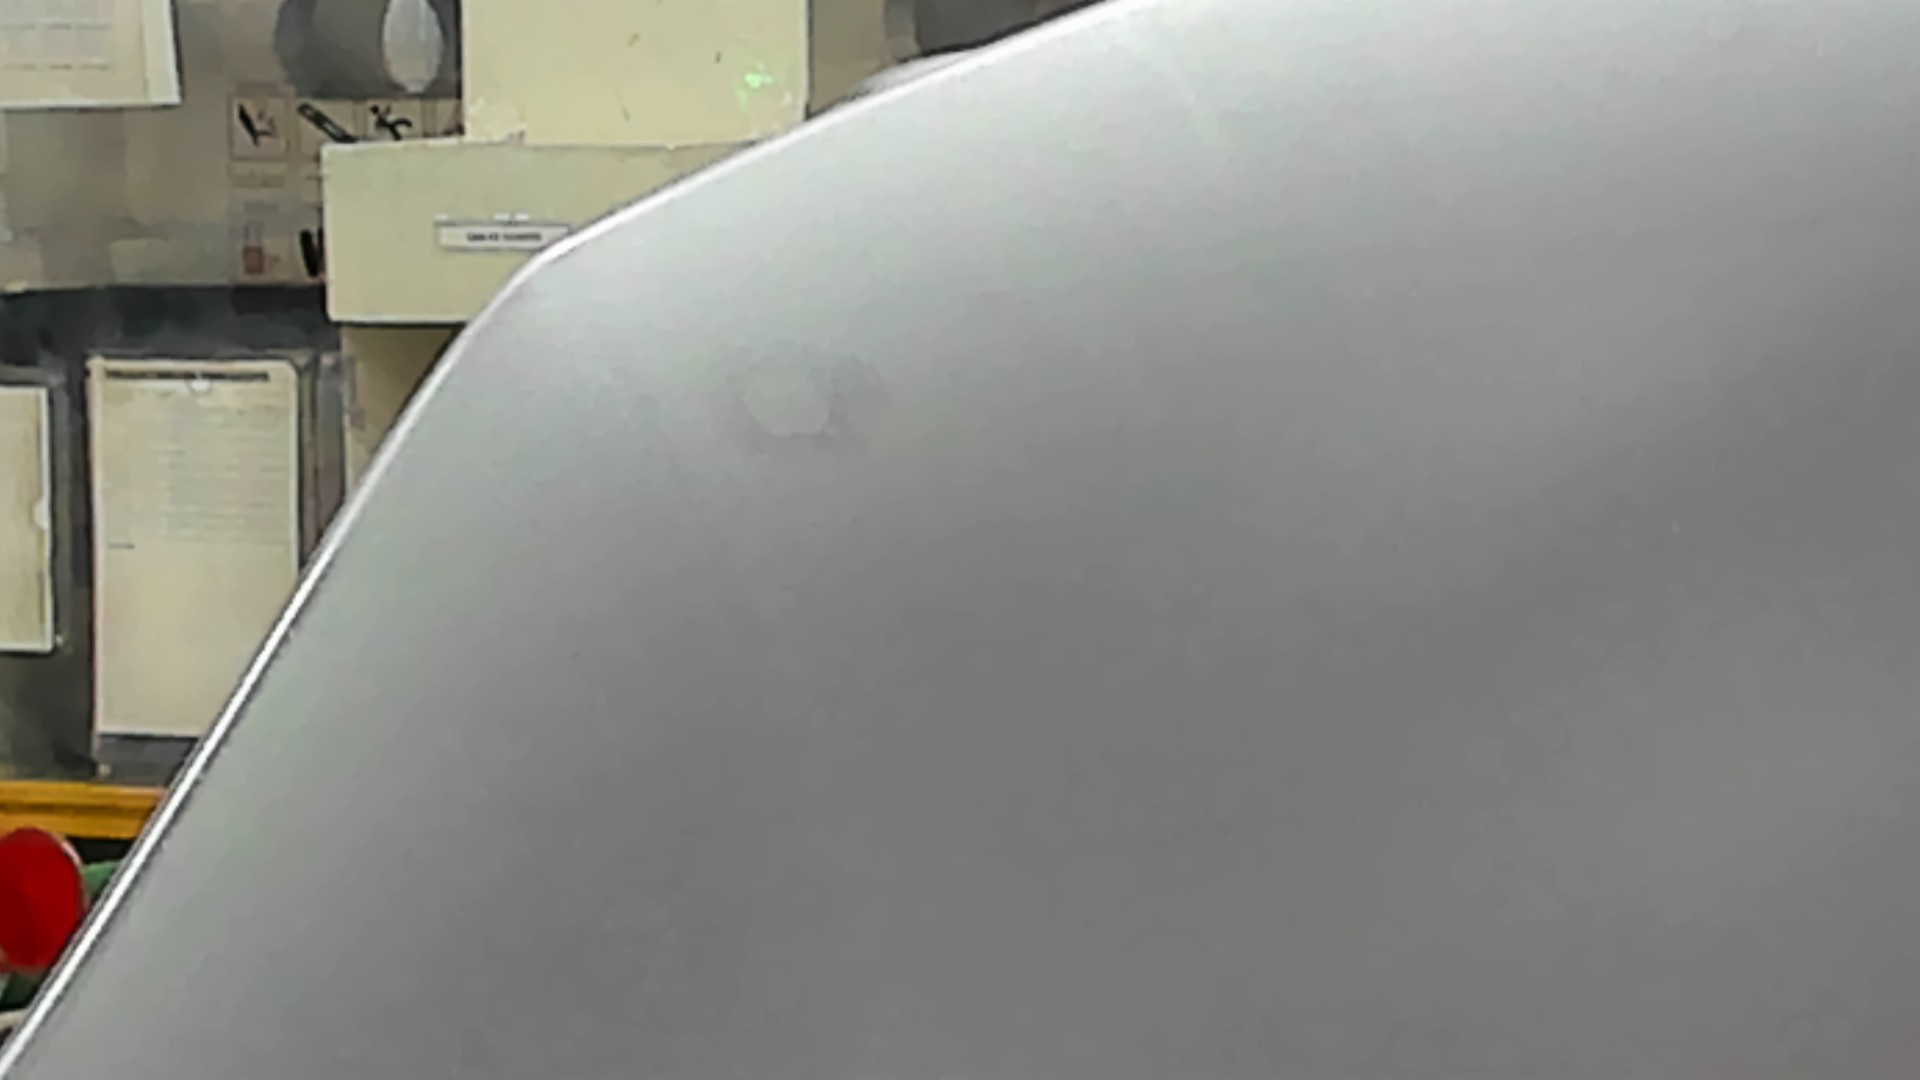capo: (719, 182, 1920, 1080)
